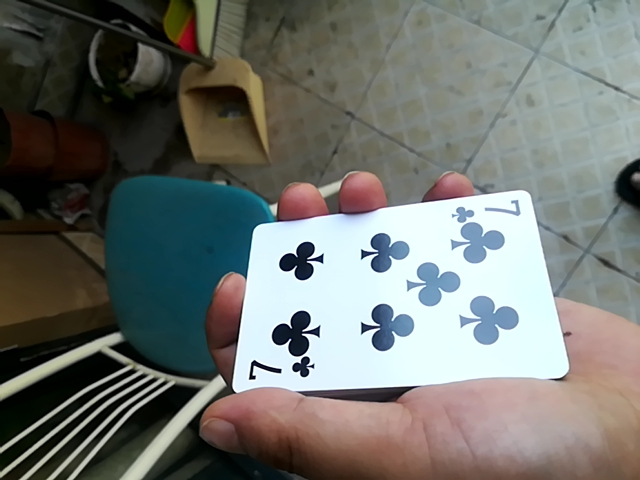mh 7: (222, 184, 582, 391)
